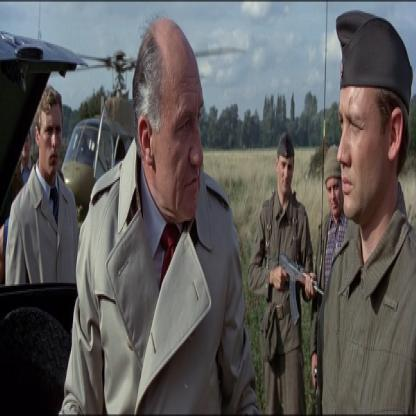Guns: (278, 248, 324, 330)
